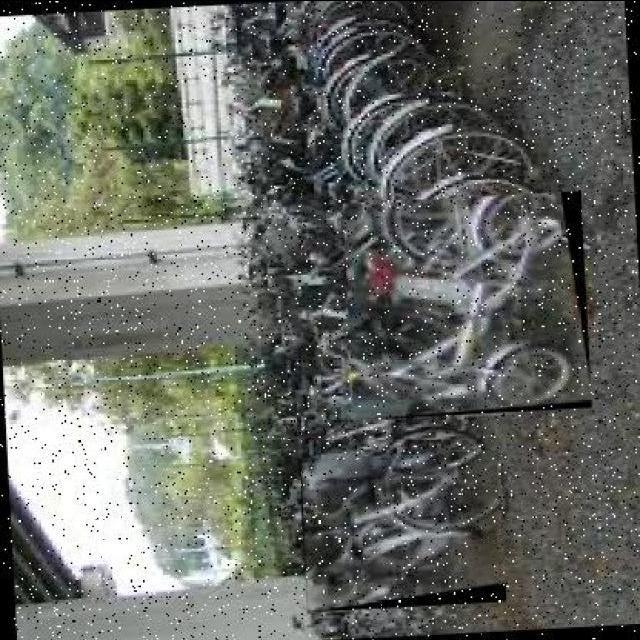bicycle: (343, 190, 594, 421), (299, 449, 508, 613)
